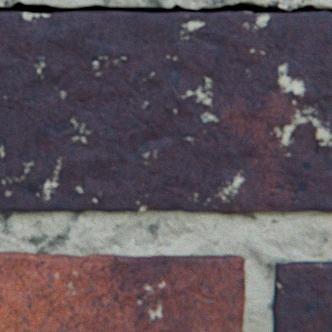brick: (0, 11, 331, 212), (0, 250, 244, 331), (272, 260, 331, 331)
crack: (0, 0, 331, 13)
